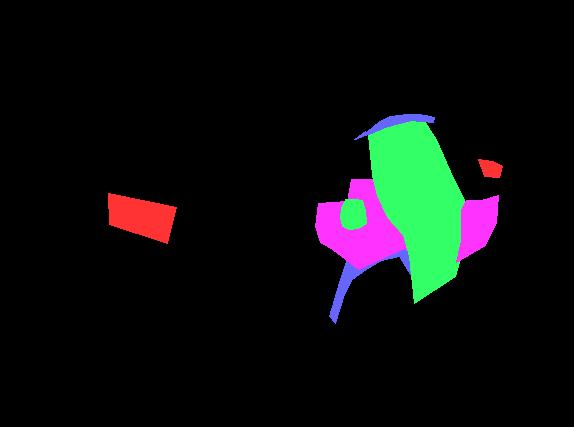Broken part: (368, 116, 466, 303), (340, 199, 366, 229)
Dent: (315, 179, 414, 269), (456, 195, 498, 262), (380, 115, 412, 126)
Missing part: (108, 193, 176, 243), (478, 159, 502, 177)
Scratch: (329, 240, 416, 323), (354, 114, 434, 139)
